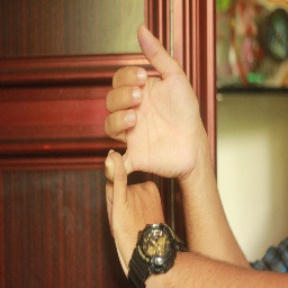S: (94, 22, 205, 265)
